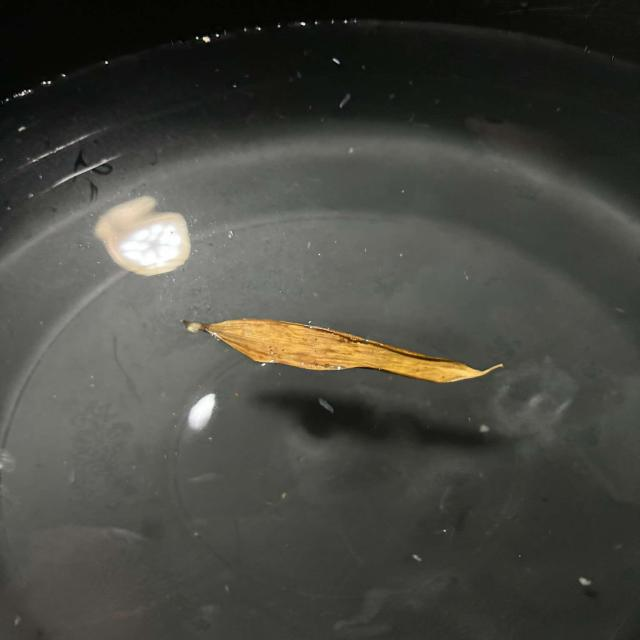Leaf: (167, 301, 514, 397)
